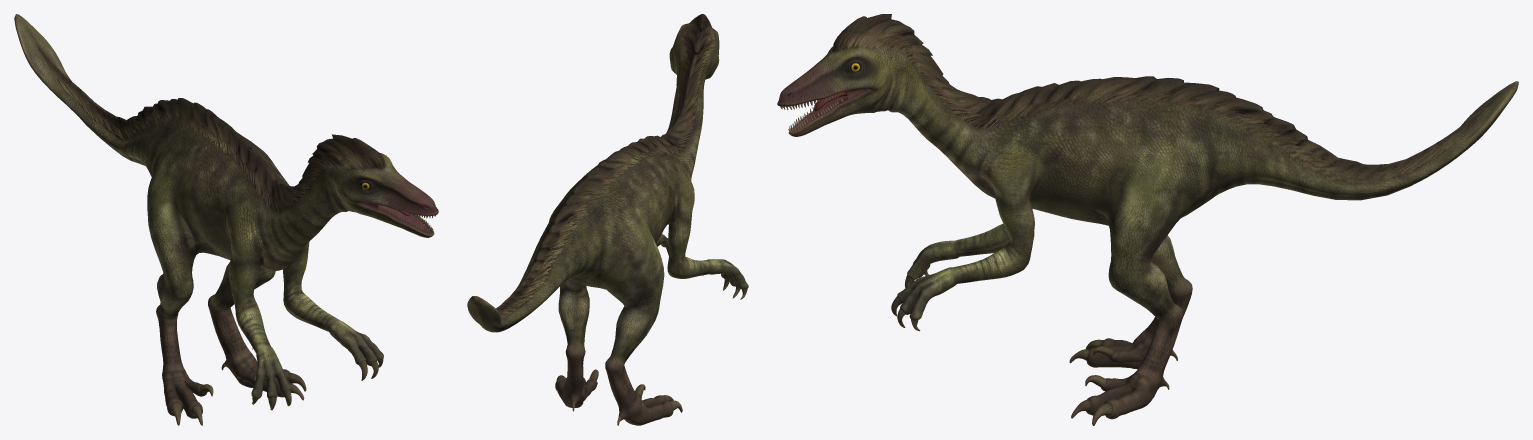
File: trodon.fbx
3 renders of one model, left to right at view 1: azimuth 30°, elevation 25°; view 2: azimuth 150°, elevation 25°; view 3: azimuth 270°, elevation 25°, orthographic. The views are drawn at different scales.
Visible parts, largest first — view 1: node_id30; view 2: node_id30; view 3: node_id30.
Boxes of the visible parts, x1,y1,x2,y2 form: node_id30: [14, 14, 438, 425]; node_id30: [467, 14, 748, 425]; node_id30: [777, 14, 1518, 425].
Size of the model in its own units: 40.8 by 178 by 101.
